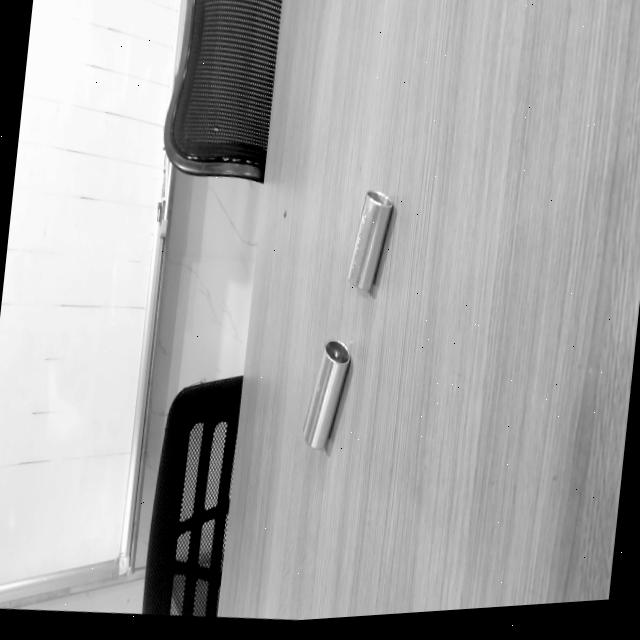Co_Lon: (297, 338, 353, 451)
Co_Nho: (342, 189, 394, 292)
